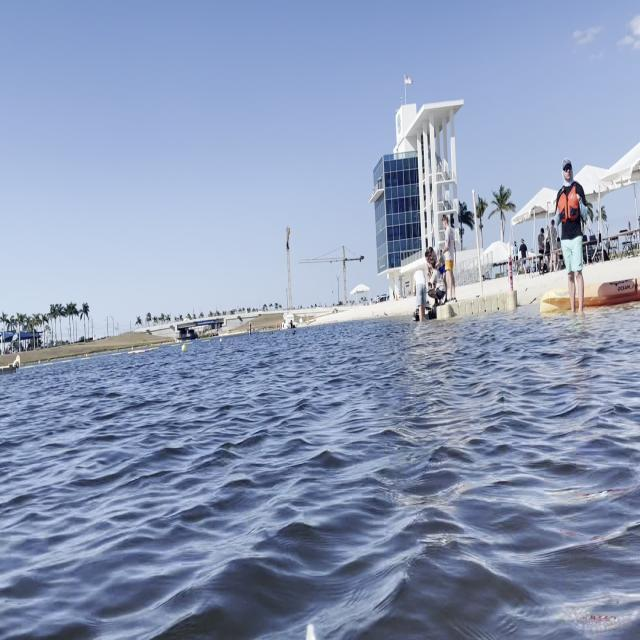buoy: (181, 342, 185, 350)
